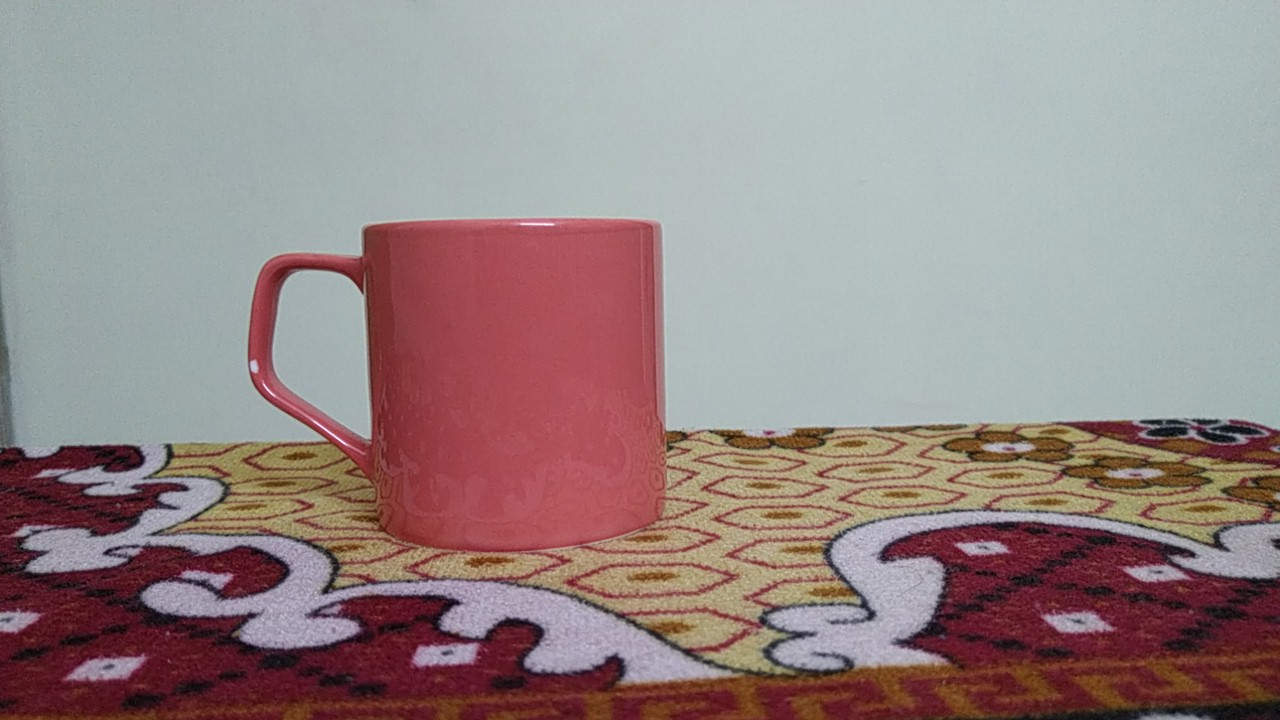cup: (238, 206, 688, 561)
